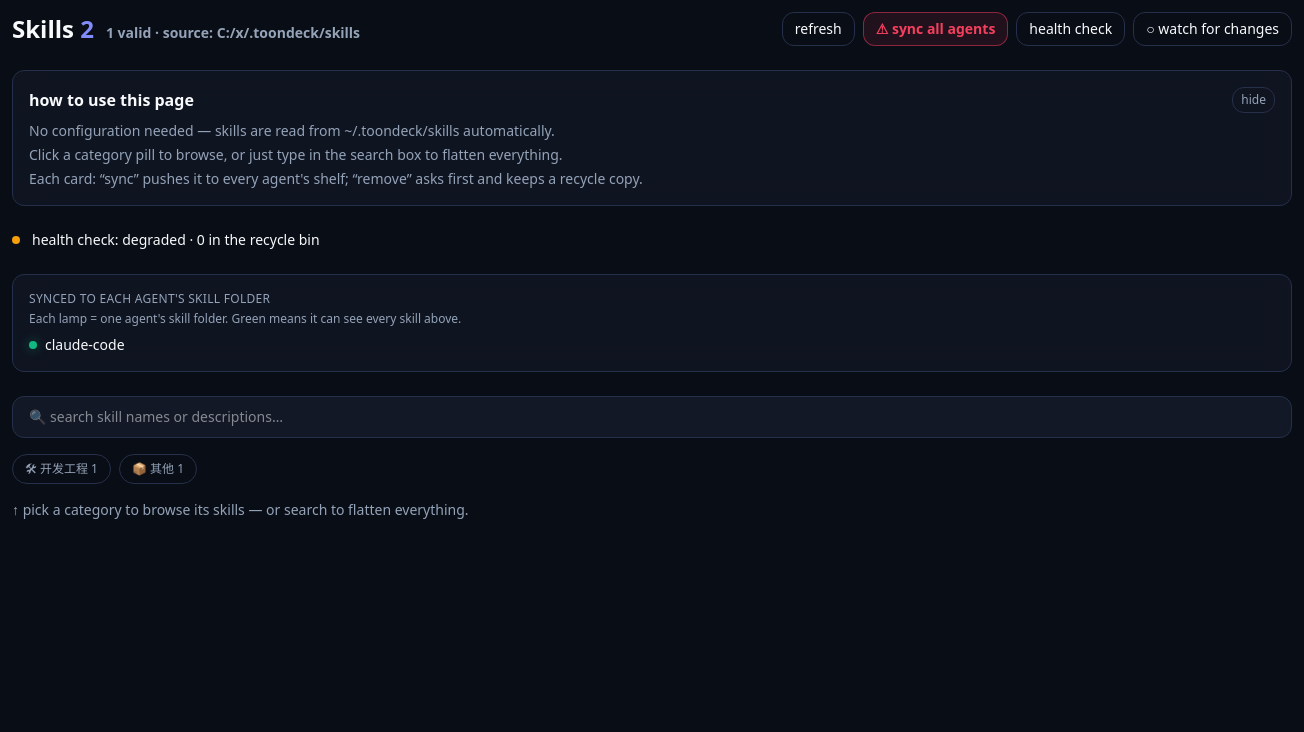
Test case: SkillsPanel card actions (UX-017) › syncs a single skill from its card
The image size is (1304, 732).
Click the button with test id "category-pill-🛠 开发工程" at (61, 469), box [12,454,111,484]
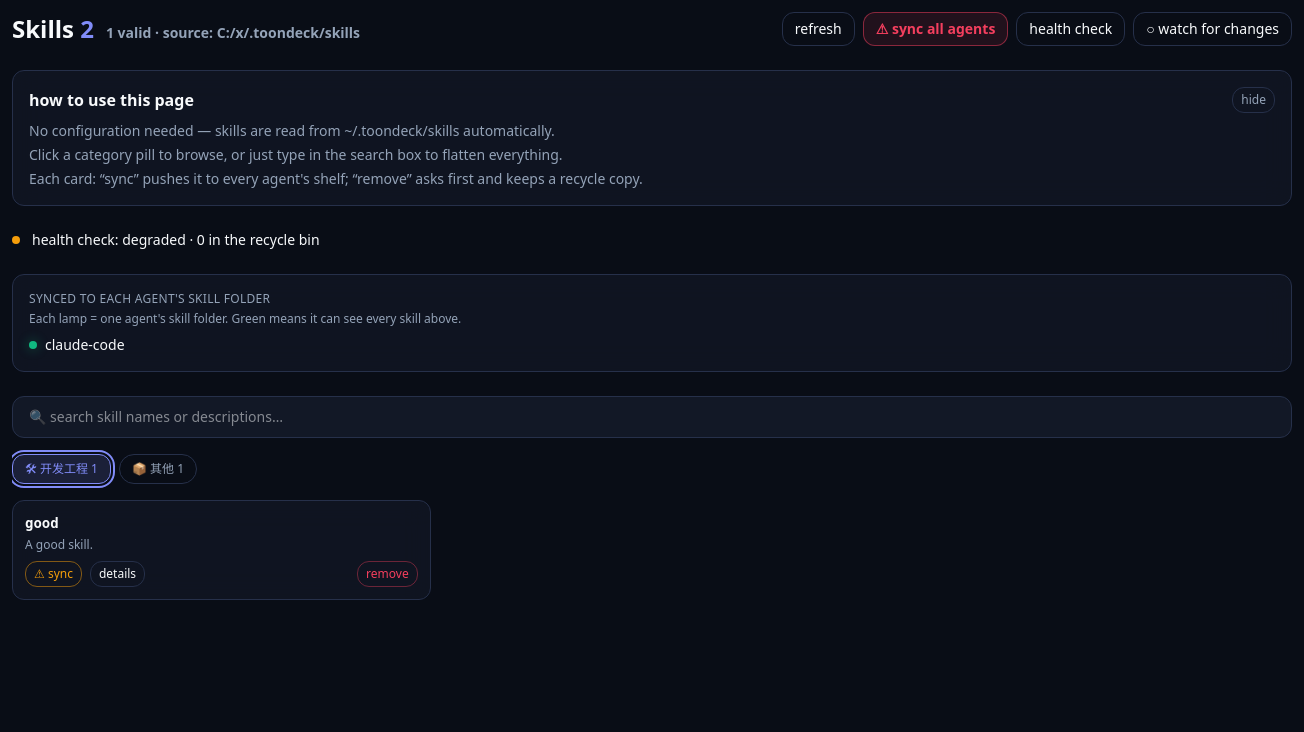
Click the button with test id "skill-sync-good" at (53, 574), box [25,561,82,587]
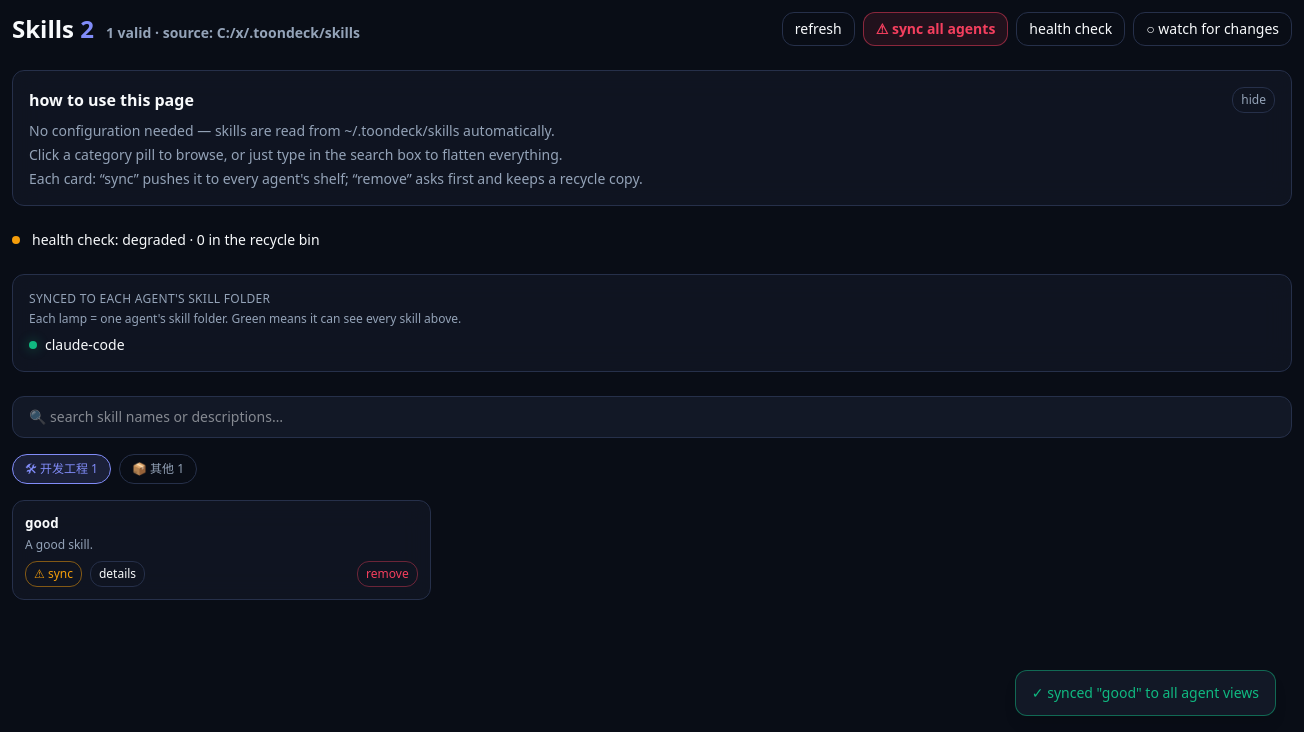
Now the button "✓ synced \"good\" to all agent views" is shown, box [1015,670,1276,716]
